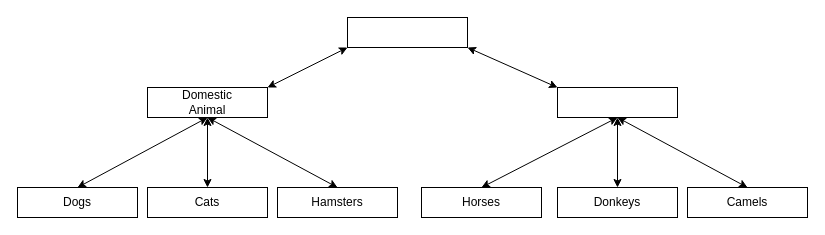
The diagram is 825 pixels wide and 235 high, and some of its shapes have lost their labels. Here are the shapes that lost their labels. From the top down, the box of each, then its label:
(346, 16, 468, 48): Animal
(556, 86, 678, 118): Pack Animal
